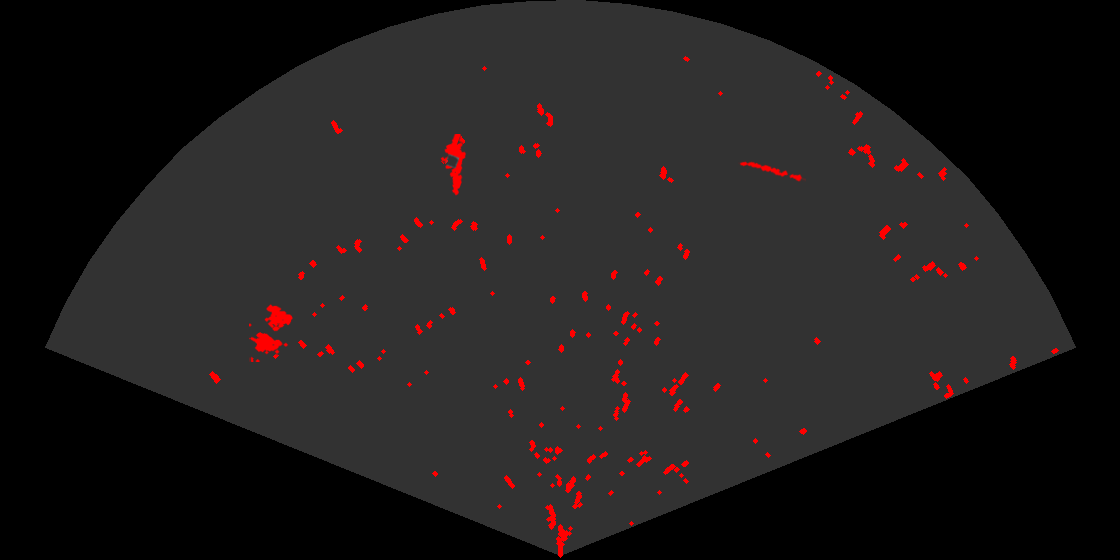cage: (249, 303, 294, 362)
chain: (738, 160, 806, 183)
frogman: (439, 134, 468, 197)
